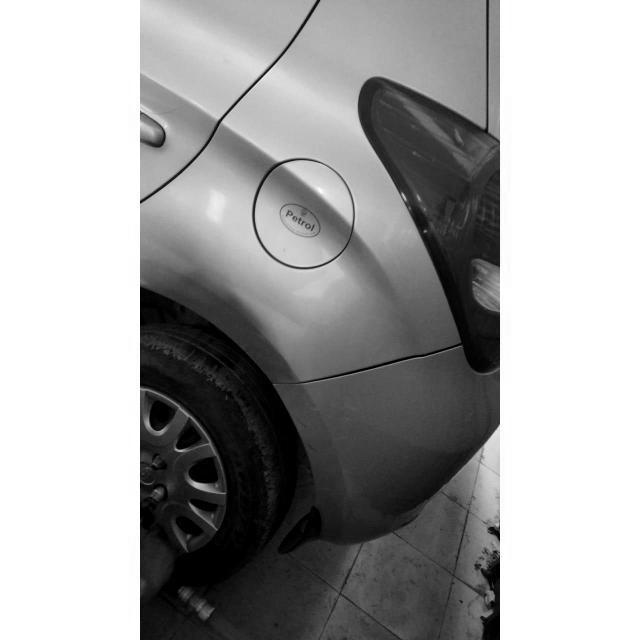quaterpanel-dent: (146, 118, 473, 379)
